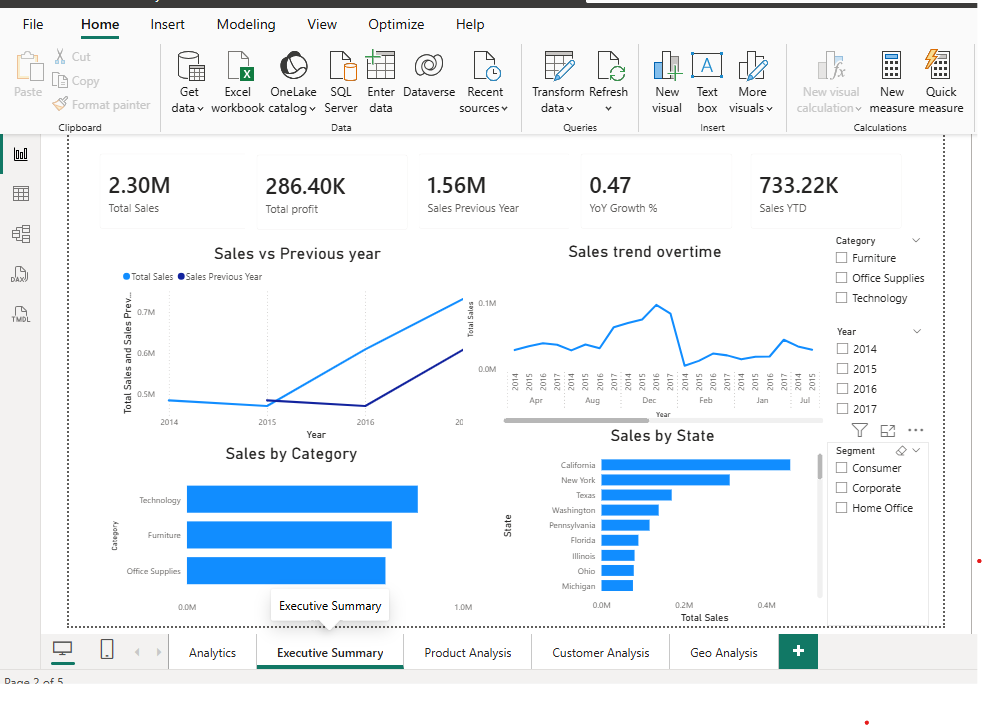

Layout of this report page (visuals, bound fields, positions):
{"tool":"powerbi","page":{"name":"Executive Summary","canvas":[1280,720],"ordinal":1},"visuals":[{"type":"cardVisual","title":"Monthly Sales Trend","fields":{"Data":["powerBiNew.Total Sales"]},"box":[27.8,11.2,256.1,144.9],"z":0},{"type":"cardVisual","title":"Monthly Sales Trend","fields":{"Data":["Calendar.Sales YTD"]},"box":[981,11.8,255.3,144.5],"z":1000},{"type":"cardVisual","title":"Monthly Sales Trend","fields":{"Data":["Calendar.Sales Previous Year"]},"box":[494.6,11.2,256.1,144.9],"z":2000},{"type":"cardVisual","title":"Monthly Sales Trend","fields":{"Data":["Calendar.YoY Growth %"]},"box":[731.7,11.2,256.1,144.9],"z":3000},{"type":"lineChart","title":"Sales vs Previous year","fields":{"Category":["Calendar.Date.Variation.Date Hierarchy.Year","Calendar.Date.Variation.Date Hierarchy.Quarter","Calendar.Date.Variation.Date Hierarchy.Month","Calendar.Date.Variation.Date Hierarchy.Day"],"Y":["powerBiNew.Total Sales","Calendar.Sales Previous Year"]},"box":[73.2,161,522.4,292.7],"z":4000},{"type":"lineChart","title":"Sales trend overtime","fields":{"Category":["Calendar.Month","Calendar.Year"],"Y":["powerBiNew.Total Sales"]},"box":[576.2,157.9,532.5,270.4],"z":5000},{"type":"cardVisual","title":"Monthly Sales Trend","fields":{"Data":["powerBiNew.Total profit"]},"box":[257,13.4,255.3,144.5],"z":6000},{"type":"clusteredBarChart","title":"Sales by Category","fields":{"Category":["powerBiNew.Category"],"Y":["powerBiNew.Total Sales"]},"box":[55.6,453.7,540,266.3],"z":7000},{"type":"barChart","title":"Sales by State","fields":{"Category":["powerBiNew.State"],"Y":["powerBiNew.Total Sales"]},"box":[629.9,426.7,478.7,294],"z":8000},{"type":"slicer","fields":{"Values":["powerBiNew.Category"]},"box":[1108.7,142.8,149.5,268.8],"z":9000},{"type":"slicer","fields":{"Values":["Calendar.Year"]},"box":[1110.3,277.2,149.5,268.8],"z":10000},{"type":"slicer","fields":{"Values":["powerBiNew.Segment"]},"box":[1108.7,451.2,149.5,268.8],"z":11000}]}

Visuals, with their boxes on the page's 1280x720 design canvas (x1, y1, x2, y2). These are canvas units, not pixel positions in the 982x725 screenshot, which may show the page scaled, cropped or inside an application window:
"Monthly Sales Trend" cardVisual: <box>28,11,284,156</box>
"Monthly Sales Trend" cardVisual: <box>981,12,1236,156</box>
"Monthly Sales Trend" cardVisual: <box>495,11,751,156</box>
"Monthly Sales Trend" cardVisual: <box>732,11,988,156</box>
"Sales vs Previous year" lineChart: <box>73,161,596,454</box>
"Sales trend overtime" lineChart: <box>576,158,1109,428</box>
"Monthly Sales Trend" cardVisual: <box>257,13,512,158</box>
"Sales by Category" clusteredBarChart: <box>56,454,596,720</box>
"Sales by State" barChart: <box>630,427,1109,721</box>
slicer - powerBiNew.Category: <box>1109,143,1258,412</box>
slicer - Calendar.Year: <box>1110,277,1260,546</box>
slicer - powerBiNew.Segment: <box>1109,451,1258,720</box>
